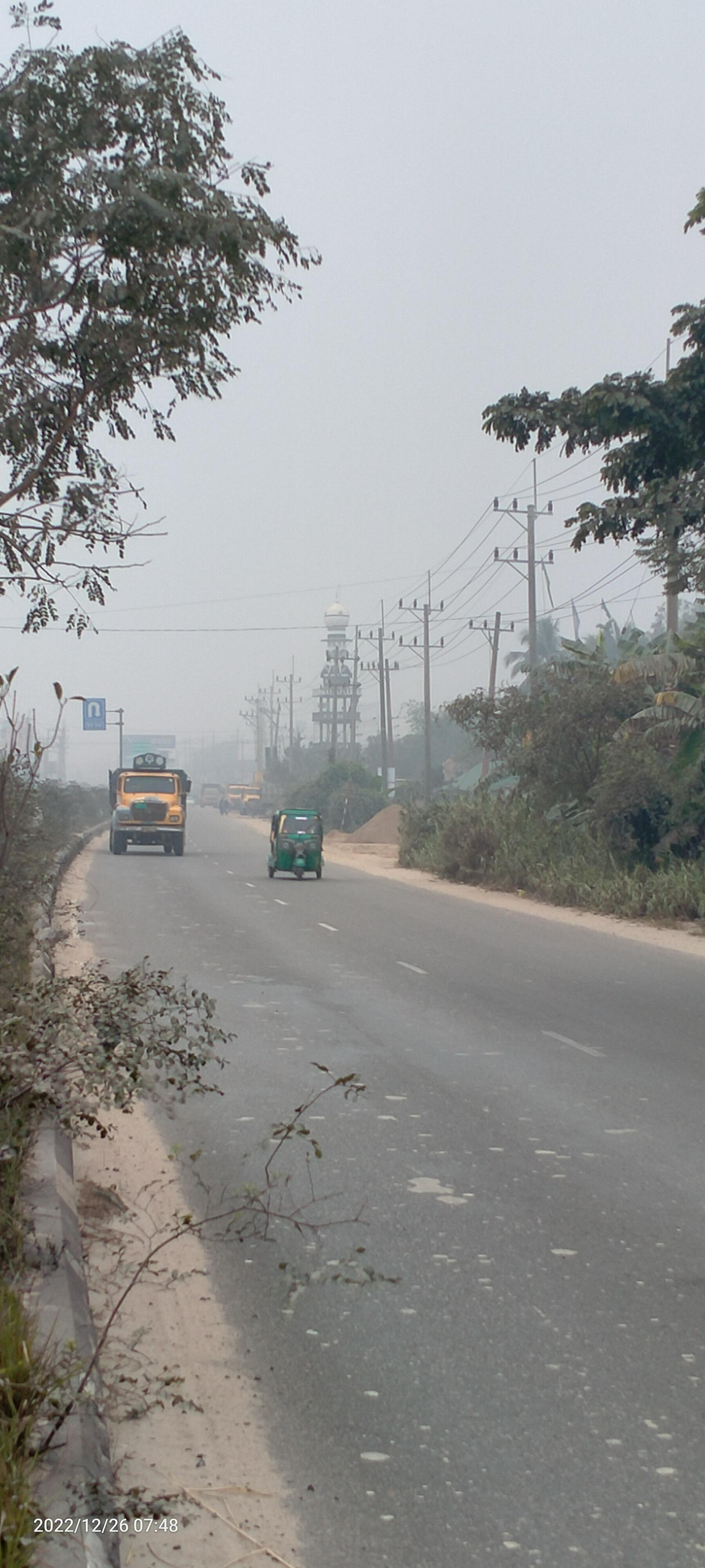Truck: (83, 750, 204, 874)
